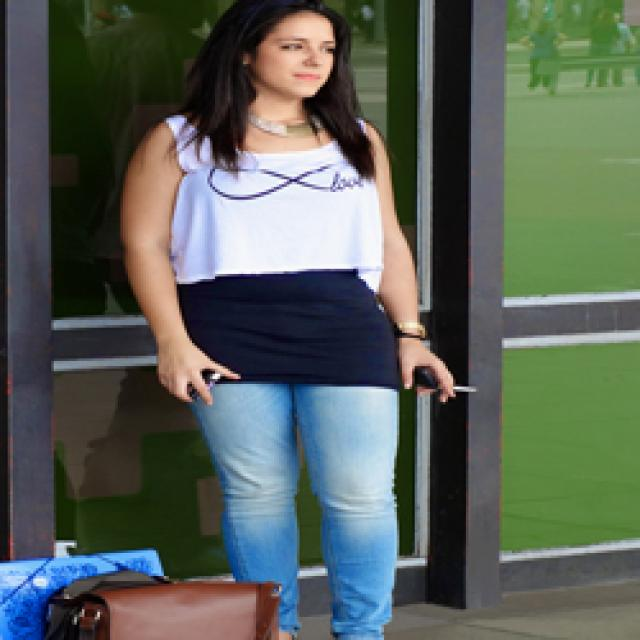Smooking: (451, 368, 480, 401)
